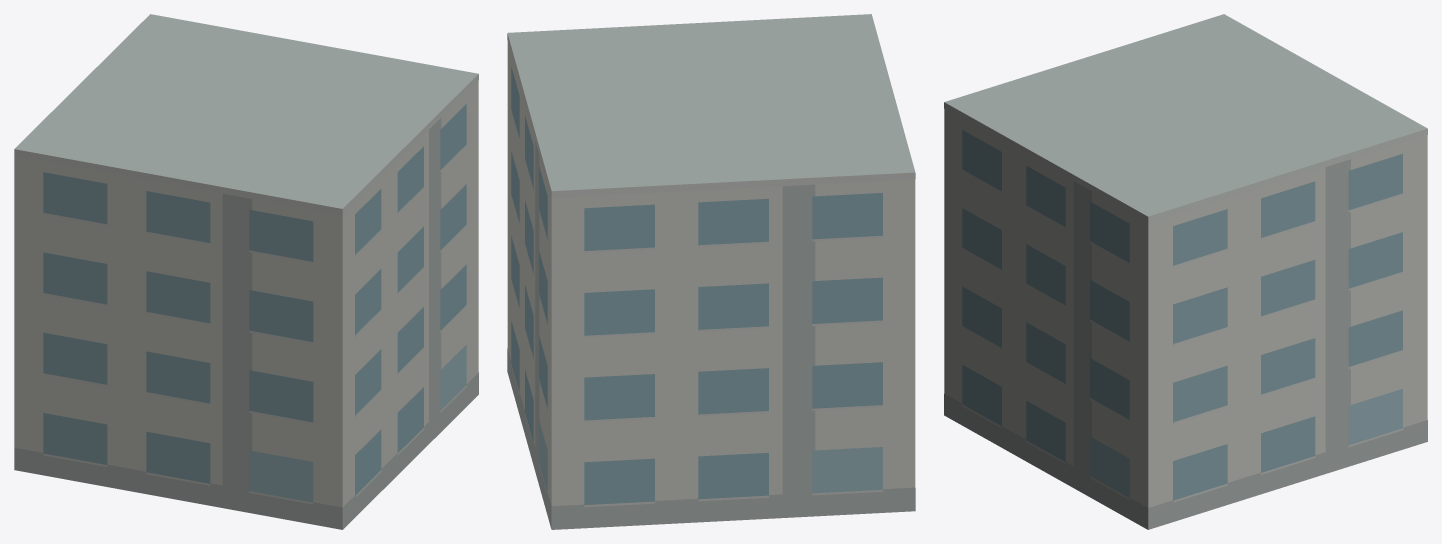
File: residential-c9f4f865-7011-45dc-a45b-8fff94360d67.glb
3 renders of one model, left to right at view 1: azimuth 30°, elevation 25°; view 2: azimuth 150°, elevation 25°; view 3: azimuth 270°, elevation 25°, orthographic. The views are drawn at different scales.
Visible parts, largest first — view 1: residential-c9f4f865-7011-45dc-a45b-8fff94360d67.tmp; view 2: residential-c9f4f865-7011-45dc-a45b-8fff94360d67.tmp; view 3: residential-c9f4f865-7011-45dc-a45b-8fff94360d67.tmp.
Boxes of the visible parts, x1,y1,x2,y2 form: residential-c9f4f865-7011-45dc-a45b-8fff94360d67.tmp: (14, 14, 478, 529); residential-c9f4f865-7011-45dc-a45b-8fff94360d67.tmp: (507, 14, 915, 529); residential-c9f4f865-7011-45dc-a45b-8fff94360d67.tmp: (944, 14, 1427, 529).
Bounding box in the file's own units: 16.52 × 11.9 × 16.66.
